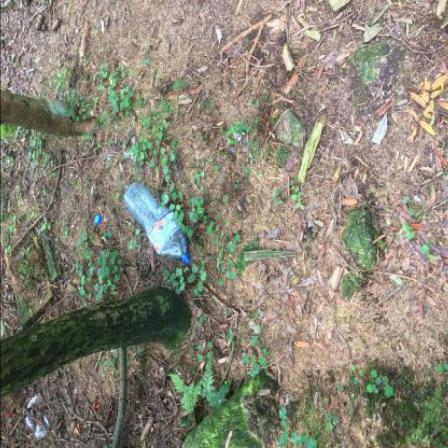Bottle: (124, 183, 191, 266)
Bottle cap: (96, 216, 103, 226)
